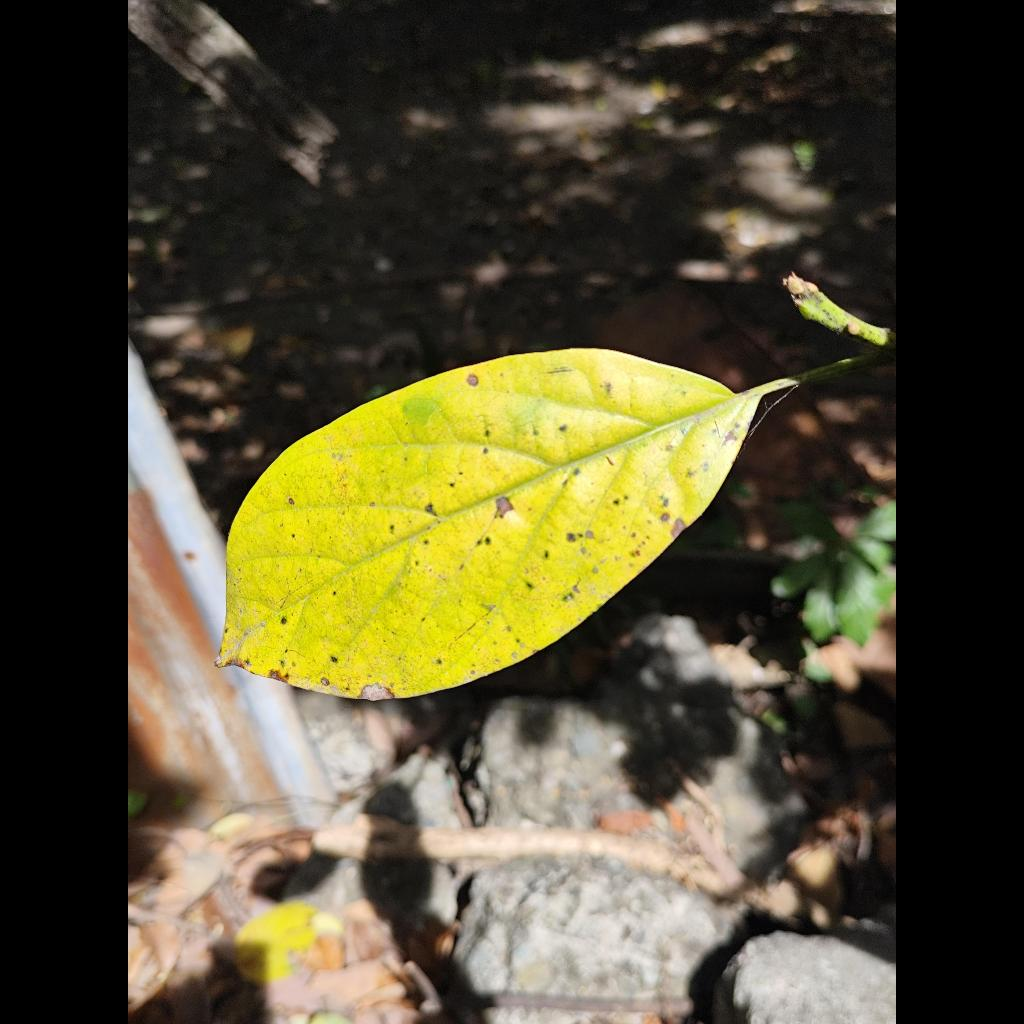nutrient_deficiency: (219, 349, 795, 699)
